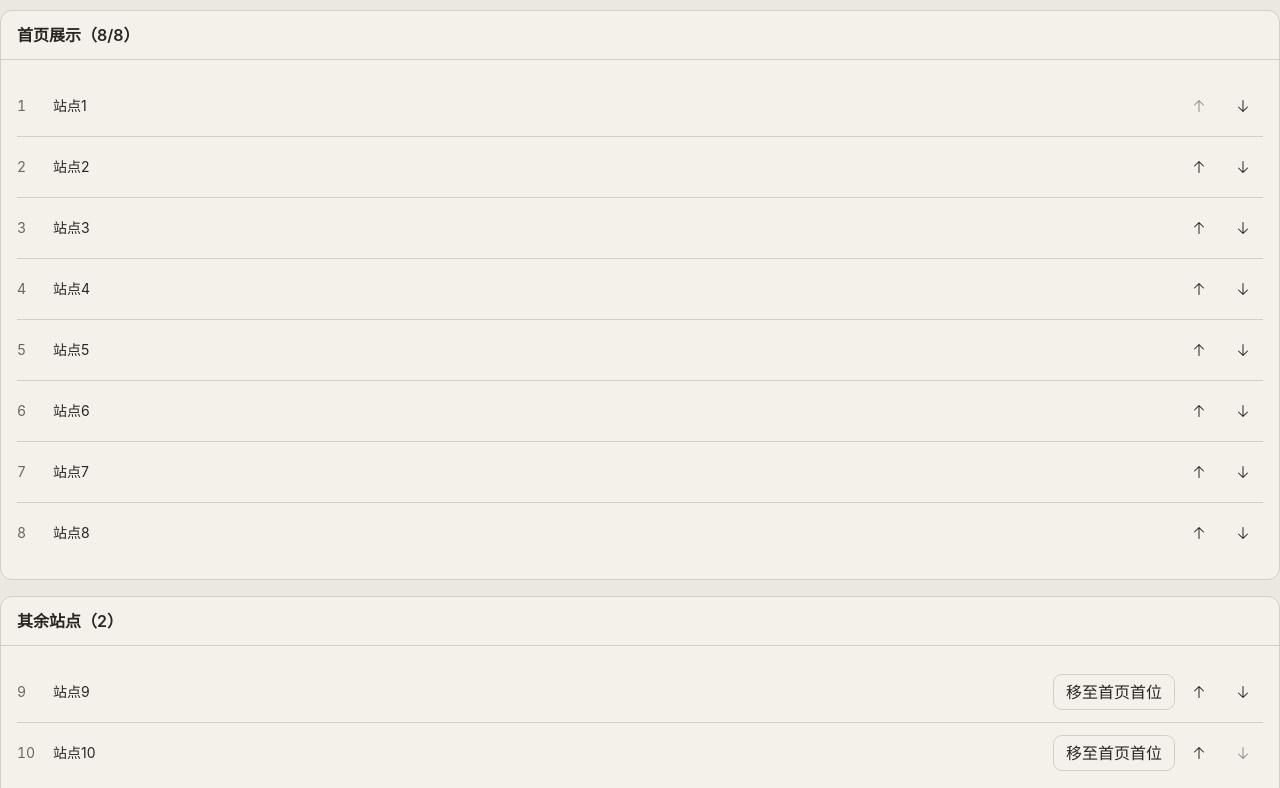
homepage group curation › keeps a rejected draft visible for conflict recovery
(page scrolled)
Click the button named "上移 站点9": [1199, 692] box 1179,674 -> 1219,710
(page scrolled)
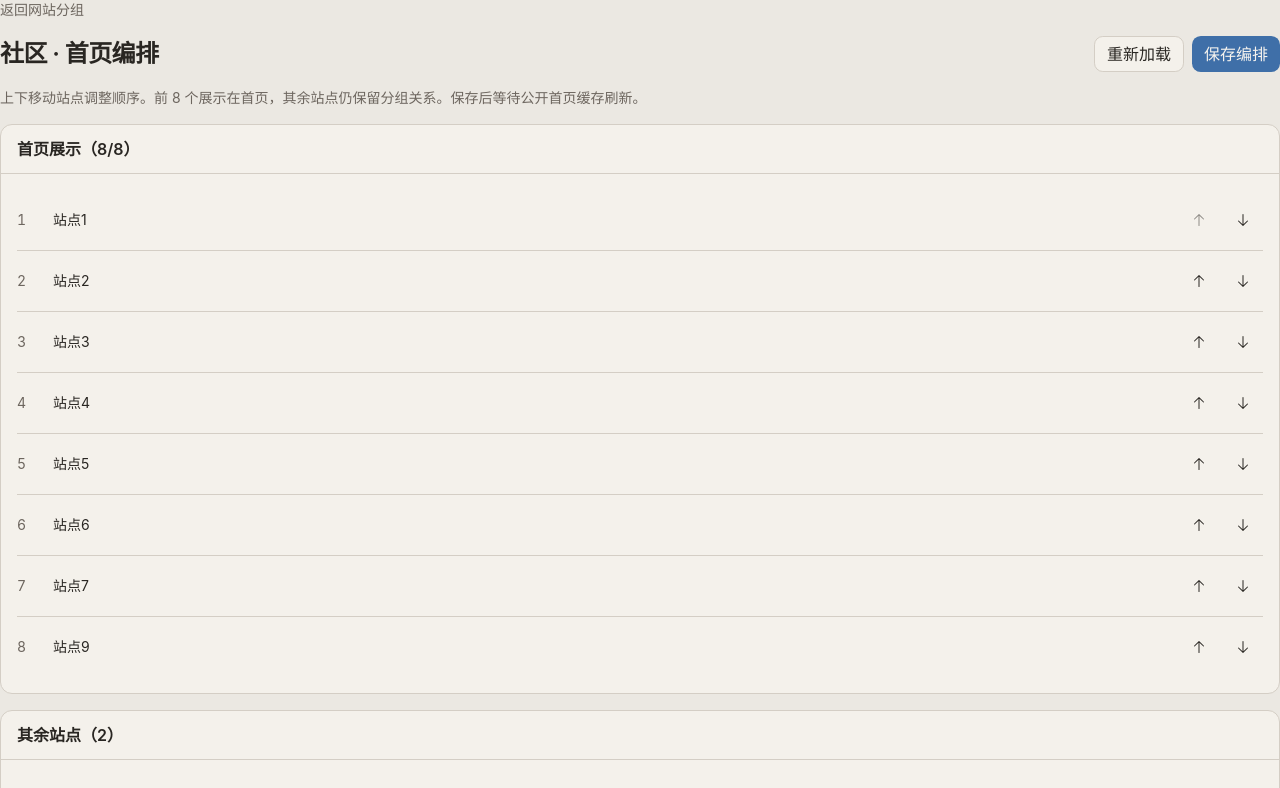
Click the button "保存编排": [1236, 54] box 1192,36 -> 1279,72
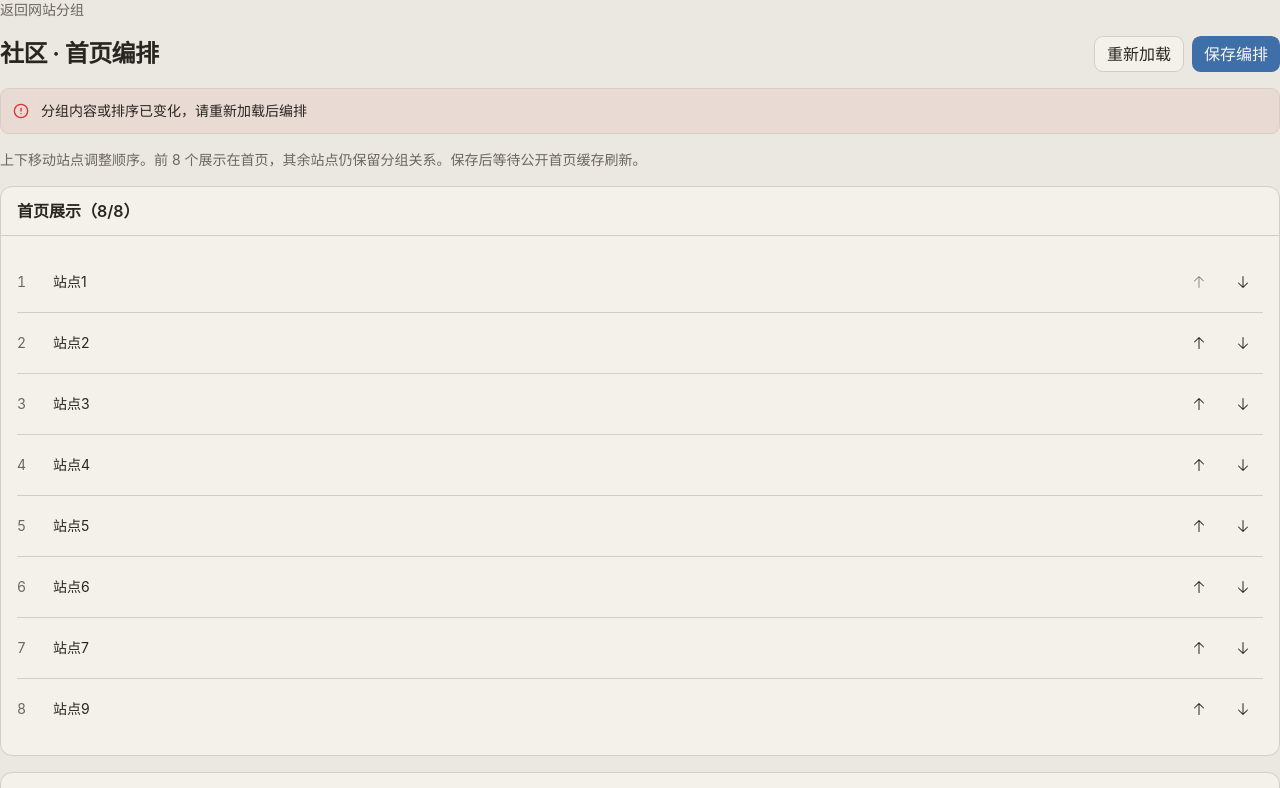
expect the link "站点9" is shown: met, box 53,700 -> 90,717
expect the text "分组内容或排序已变化，请重新加载后编排" is shown: met, box 41,101 -> 307,121
